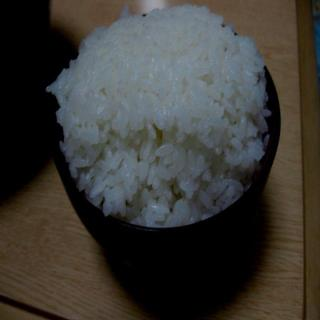Nasi: (46, 2, 273, 230)
